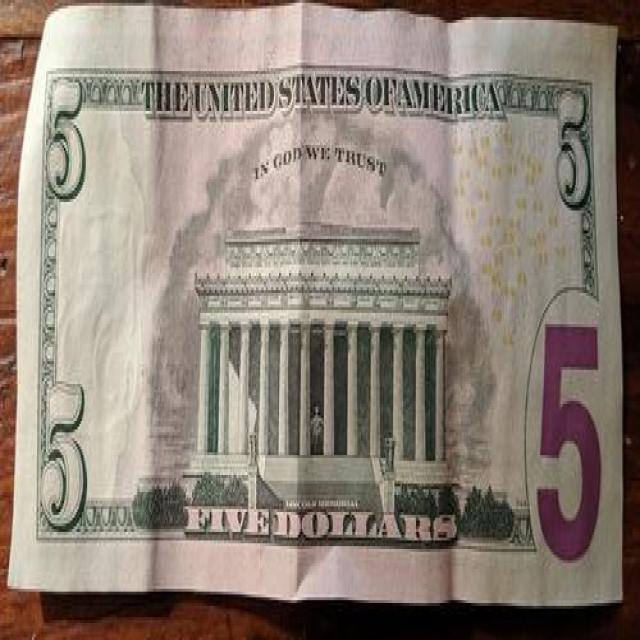5-Back: (5, 3, 625, 600)
